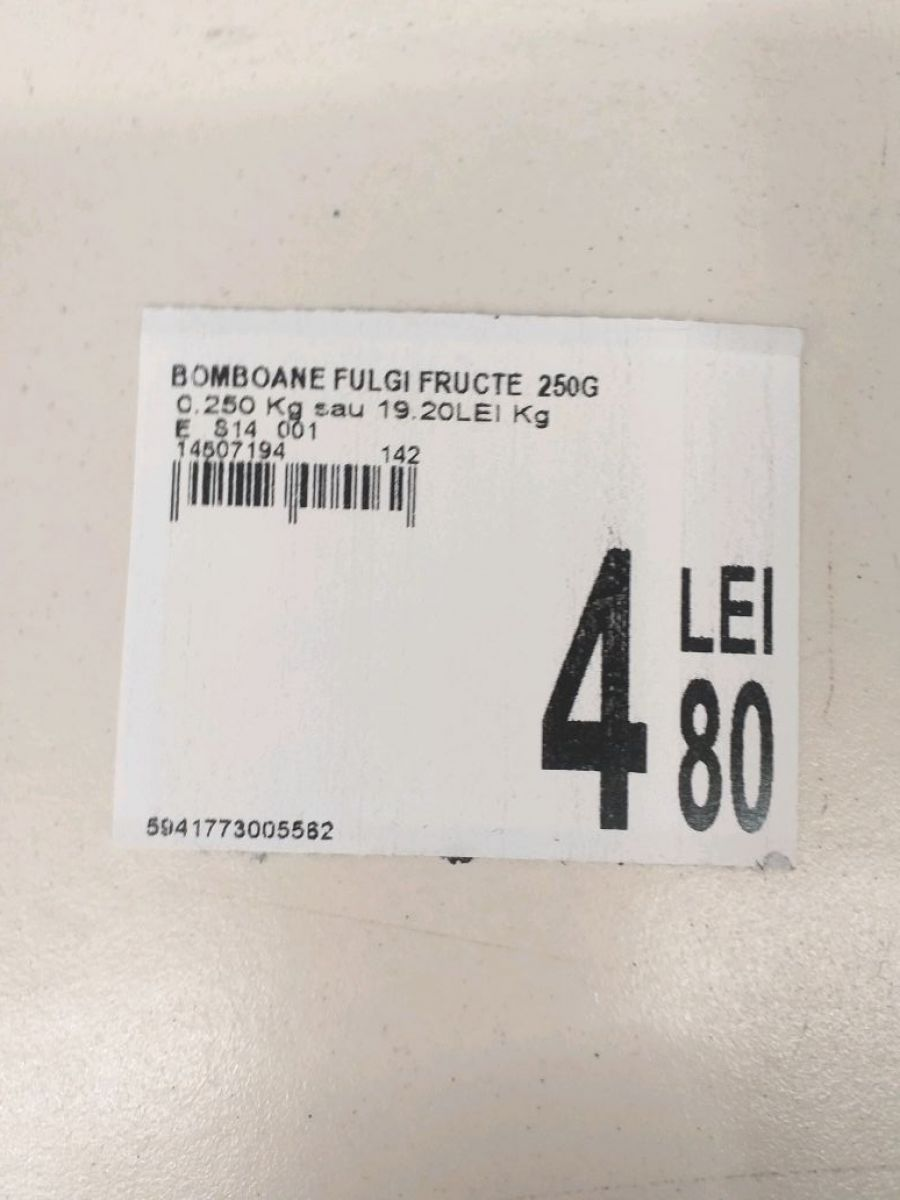bardcode: (140, 809, 340, 845)
list: (107, 303, 809, 858)
name: (169, 358, 601, 404)
price: (517, 531, 788, 842)
